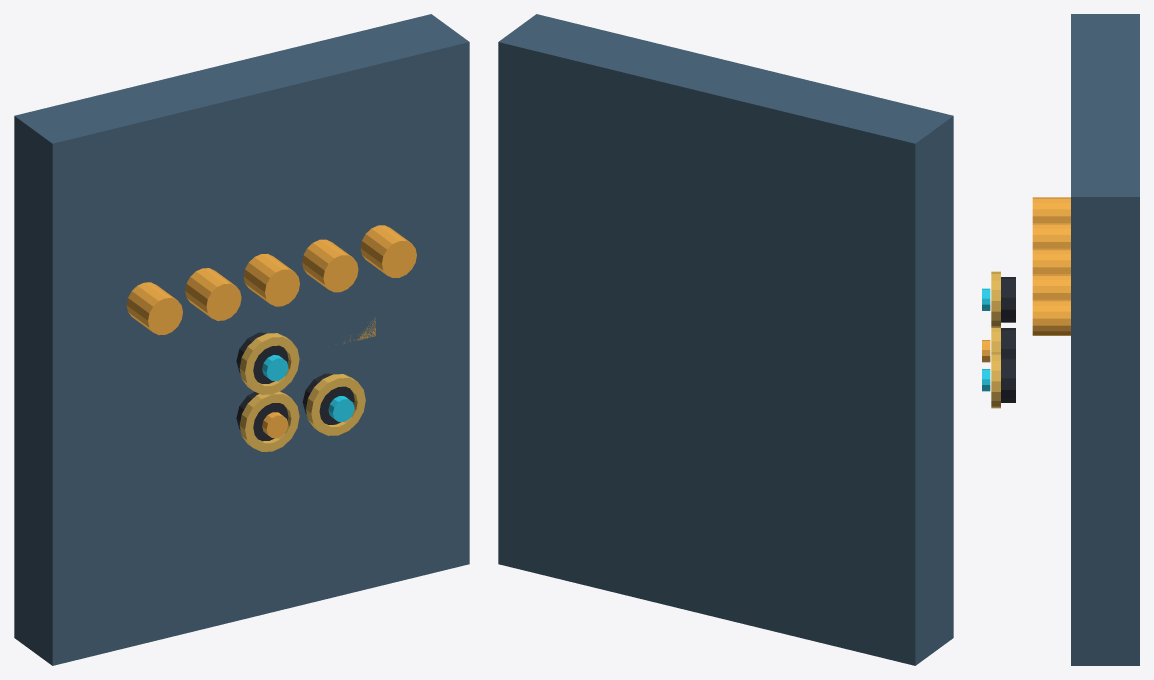
Rendered from 11_L82_AvionicsAccessHatch.fbx.
3 renders of one model, left to right at view 1: azimuth 30°, elevation 25°; view 2: azimuth 150°, elevation 25°; view 3: azimuth 270°, elevation 25°, orthographic. The views are drawn at different scales.
Visible parts, largest first — view 1: AvionicsAccessHatch; view 2: AvionicsAccessHatch; view 3: AvionicsAccessHatch.
Part boxes in pixels (bbox=[...]): AvionicsAccessHatch: bbox=[14, 14, 469, 665]; AvionicsAccessHatch: bbox=[498, 14, 953, 665]; AvionicsAccessHatch: bbox=[982, 14, 1139, 665].
Bounding box in the file's own units: 107 × 128 × 39.
